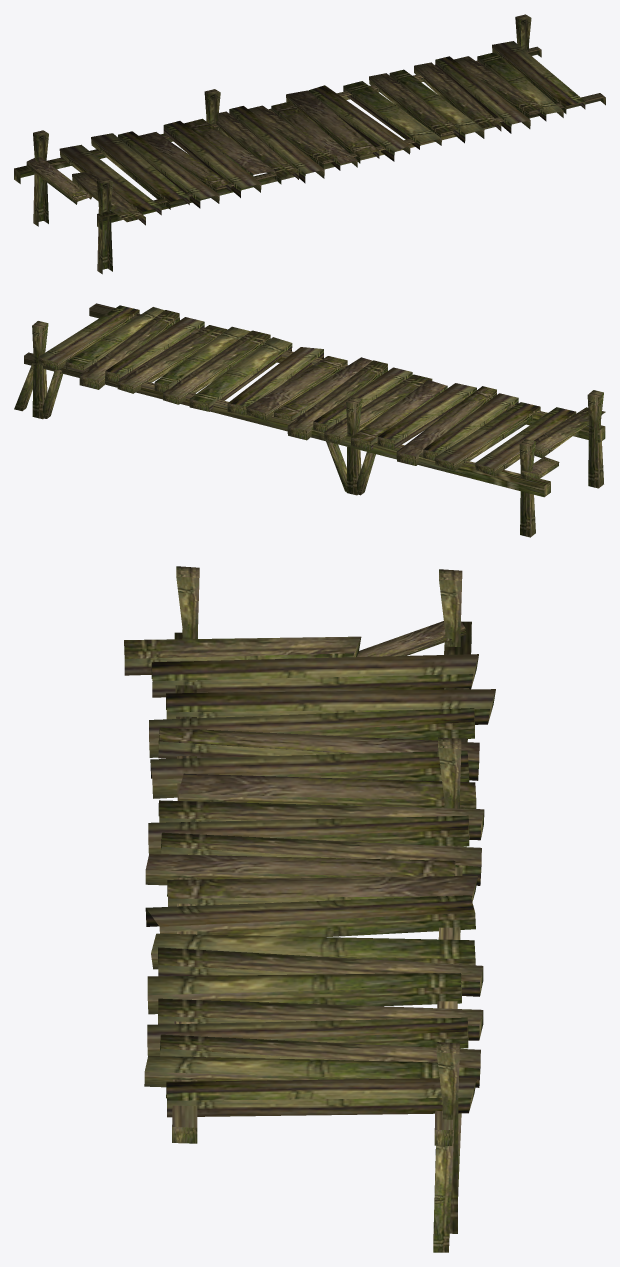
Rendered from S_Build_Village067_A1.FBX.
3 renders of one model, top to bottom at view 1: azimuth 30°, elevation 25°; view 2: azimuth 150°, elevation 25°; view 3: azimuth 270°, elevation 25°, orthographic. The views are drawn at different scales.
Parts seen in each view (by area): view 1: S_Build_Village067_A1; view 2: S_Build_Village067_A1; view 3: S_Build_Village067_A1.
Boxes of the visible parts, x1,y1,x2,y2 form: S_Build_Village067_A1: (14,14,605,274); S_Build_Village067_A1: (14,303,605,537); S_Build_Village067_A1: (124,566,495,1252).
Bounding box in the file's own units: 1366 × 229 × 416.
